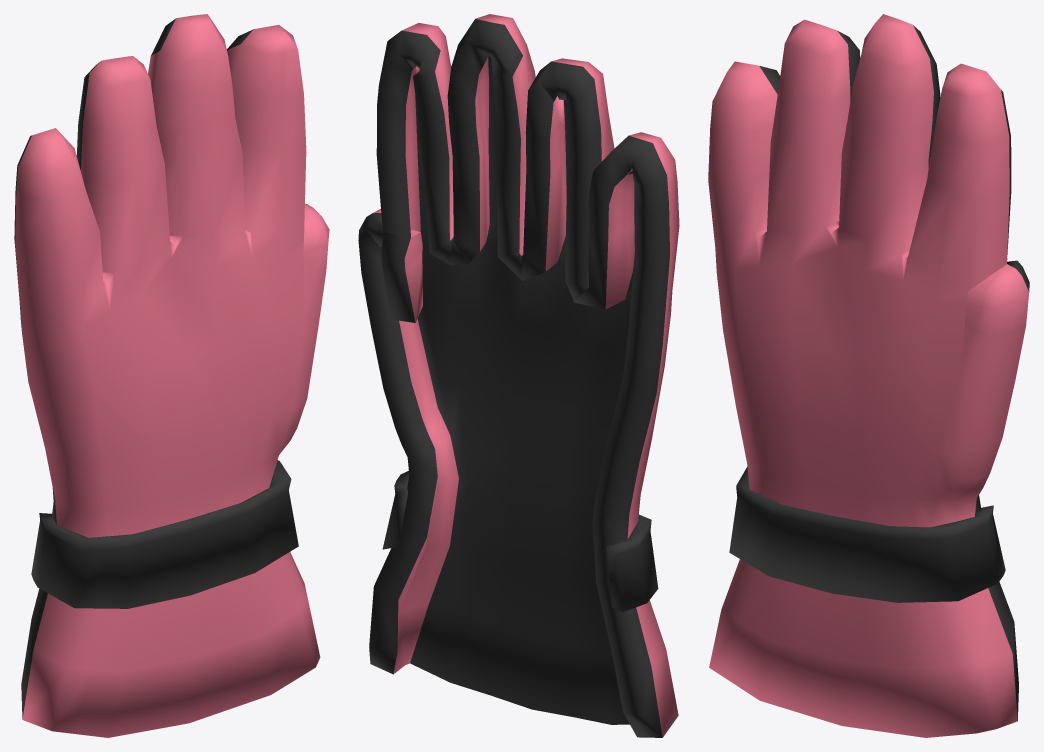
Rendered from Mittens_HALF.fbx.
3 views of the same model, side by side, from view 1: azimuth 30°, elevation 25°; view 2: azimuth 150°, elevation 25°; view 3: azimuth 330°, elevation 25° (orthographic).
Parts seen in each view (by area): view 1: Mitten Half, Mitten Half Band; view 2: Mitten Half, Mitten Half Band; view 3: Mitten Half, Mitten Half Band.
Boxes of the visible parts, box(x1,y1,x2,y2) form: Mitten Half: box(14, 14, 329, 737); Mitten Half Band: box(31, 460, 298, 608); Mitten Half: box(358, 14, 679, 737); Mitten Half Band: box(382, 470, 658, 611); Mitten Half: box(708, 14, 1029, 737); Mitten Half Band: box(729, 467, 1005, 602).
Size of the model in its own units: 174 by 372 by 47.79.
